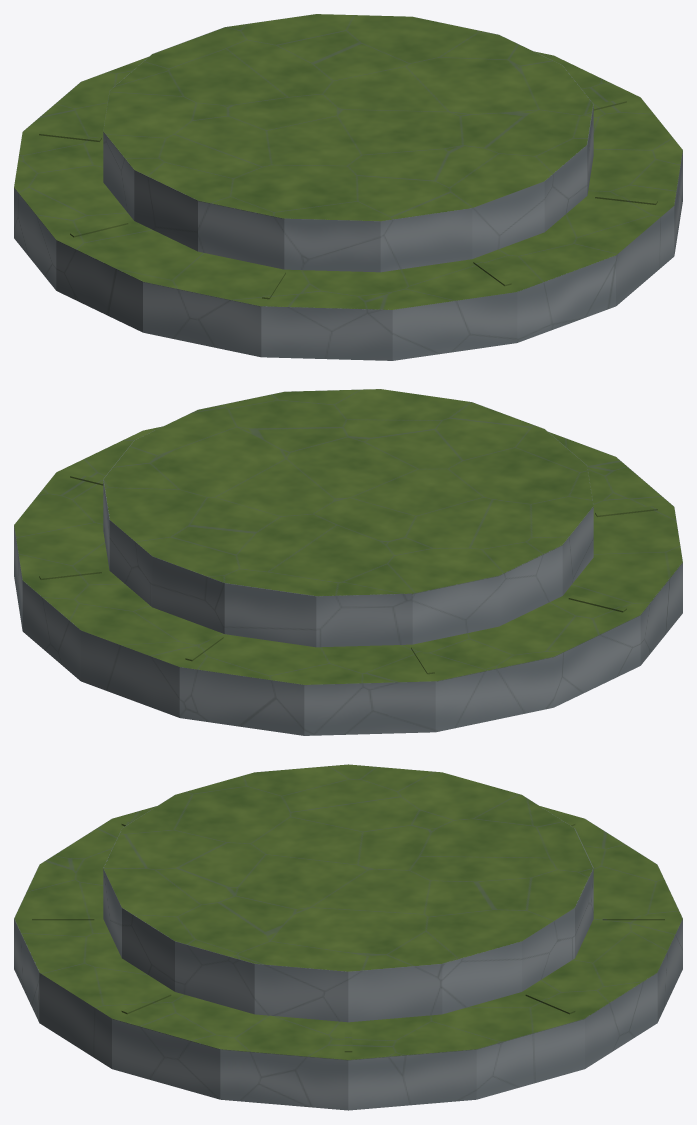
File: observatory_altar.glb
3 renders of one model, top to bottom at view 1: azimuth 30°, elevation 25°; view 2: azimuth 150°, elevation 25°; view 3: azimuth 270°, elevation 25°, orthographic.
Parts seen in each view (by area): view 1: observatory_altar_Mesh; view 2: observatory_altar_Mesh; view 3: observatory_altar_Mesh.
Part boxes in pixels (x1,y1,x2,y2): observatory_altar_Mesh: [14, 14, 682, 360]; observatory_altar_Mesh: [14, 389, 682, 735]; observatory_altar_Mesh: [14, 764, 682, 1110].
Bounding box in the file's own units: 3 × 0.5 × 3.
Materials: 1 (1 with a texture image).
